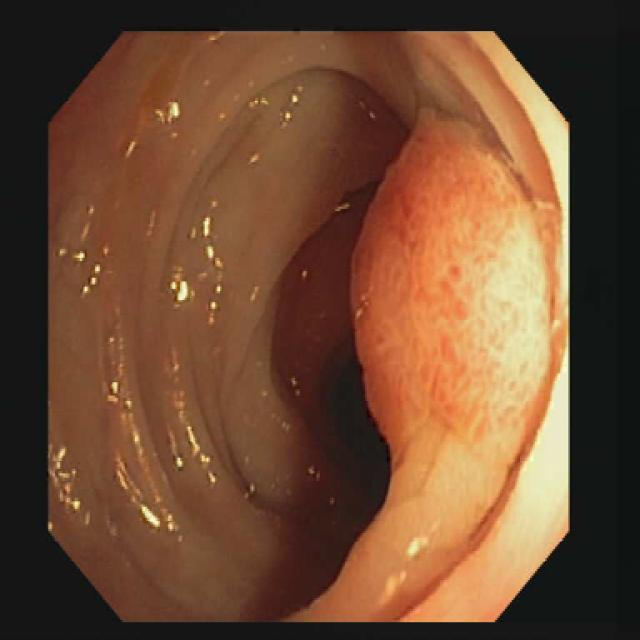tumor: (353, 120, 552, 520)
